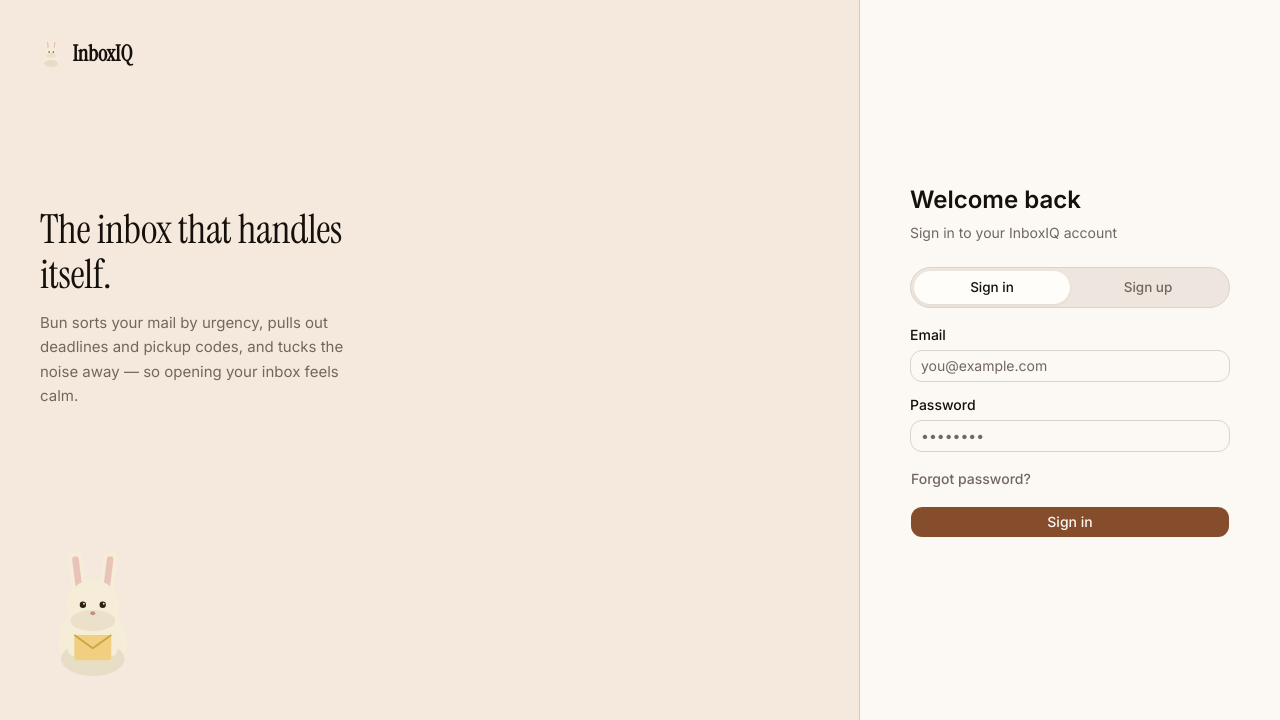
Test: SignInPage › shows confirmation message when signUp returns null session
Step 1. Click the tab "Sign up" → (1148, 288), box [1070, 271, 1226, 304]
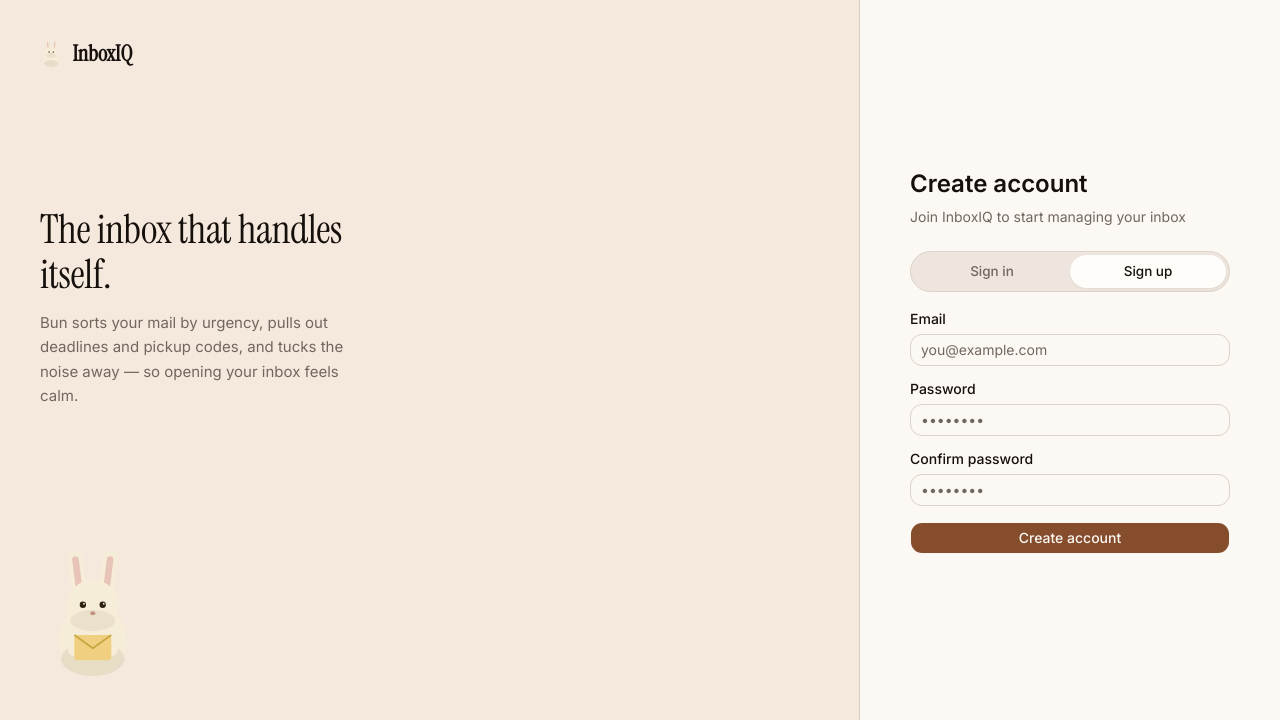
Step 2. Type "new@example.com" into the field labelled "Email" → (1070, 350), box [910, 334, 1230, 366]
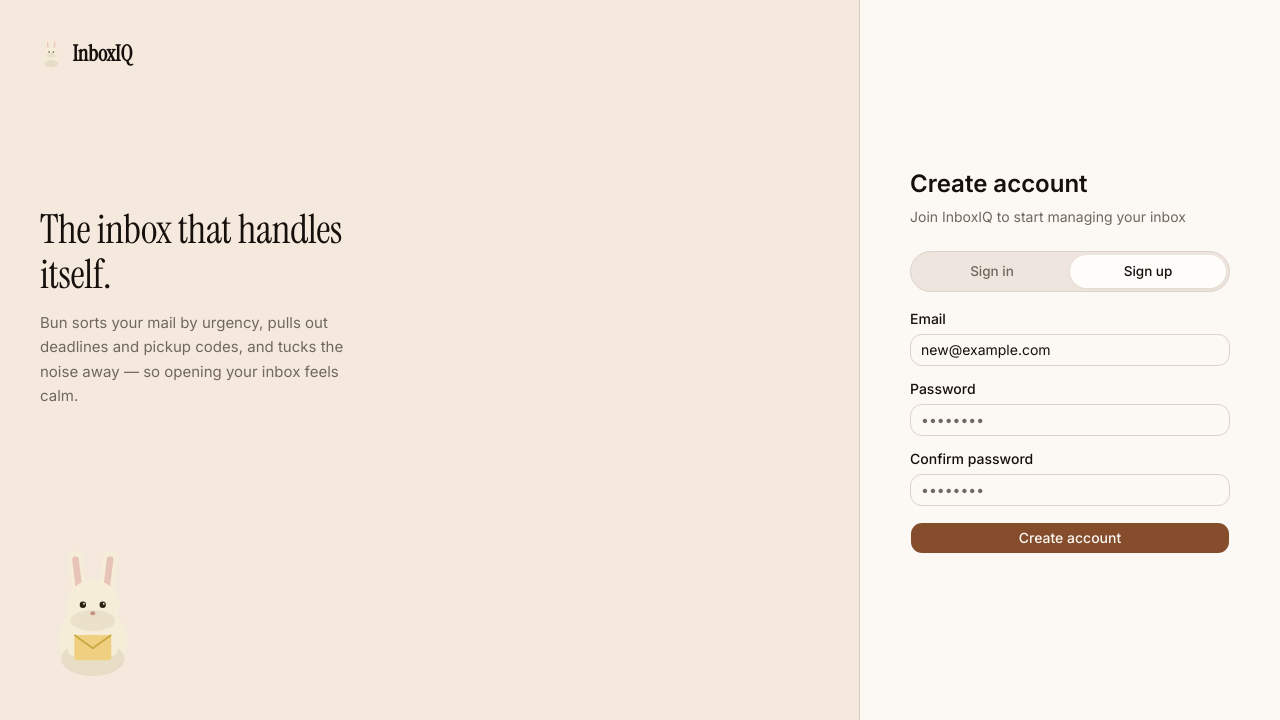
Step 3. Type "password123" into the password field labelled "Password" → (1070, 420), box [910, 404, 1230, 436]
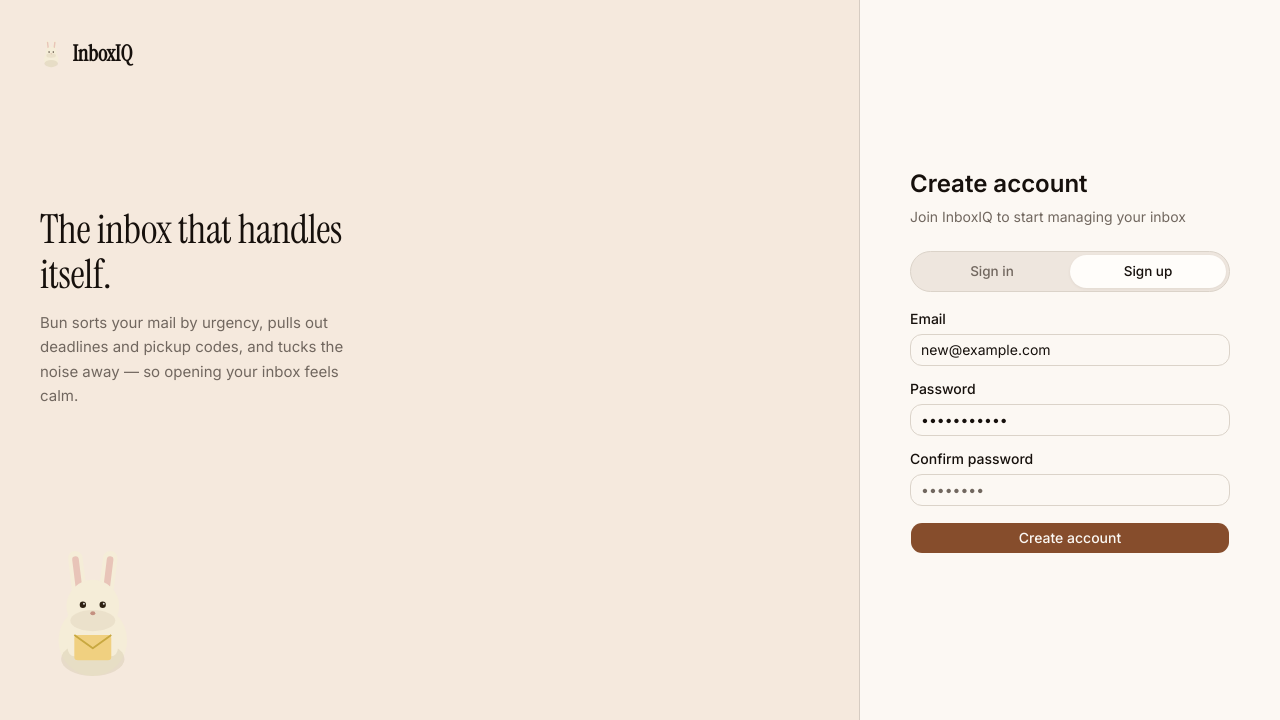
Step 4. Type "password123" into the password field labelled "Confirm password" → (1070, 490), box [910, 474, 1230, 506]
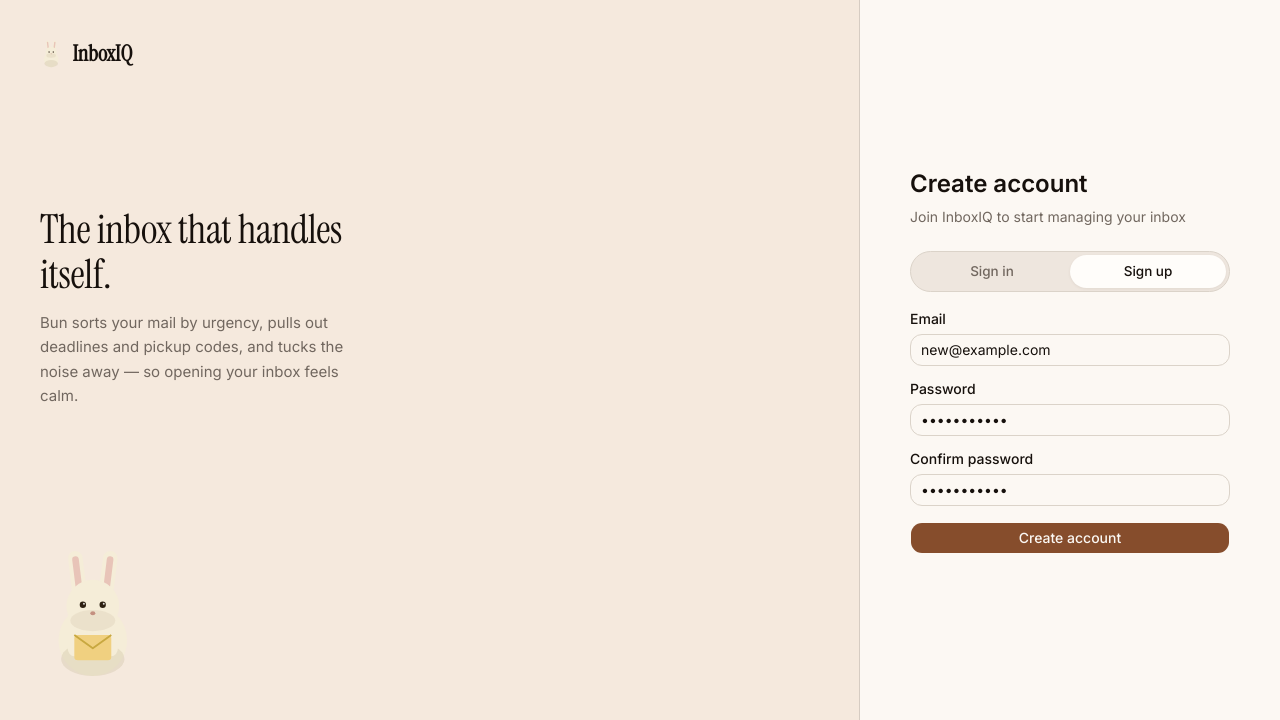
Step 5. Click the button "Create account" → (1070, 538), box [910, 522, 1230, 554]
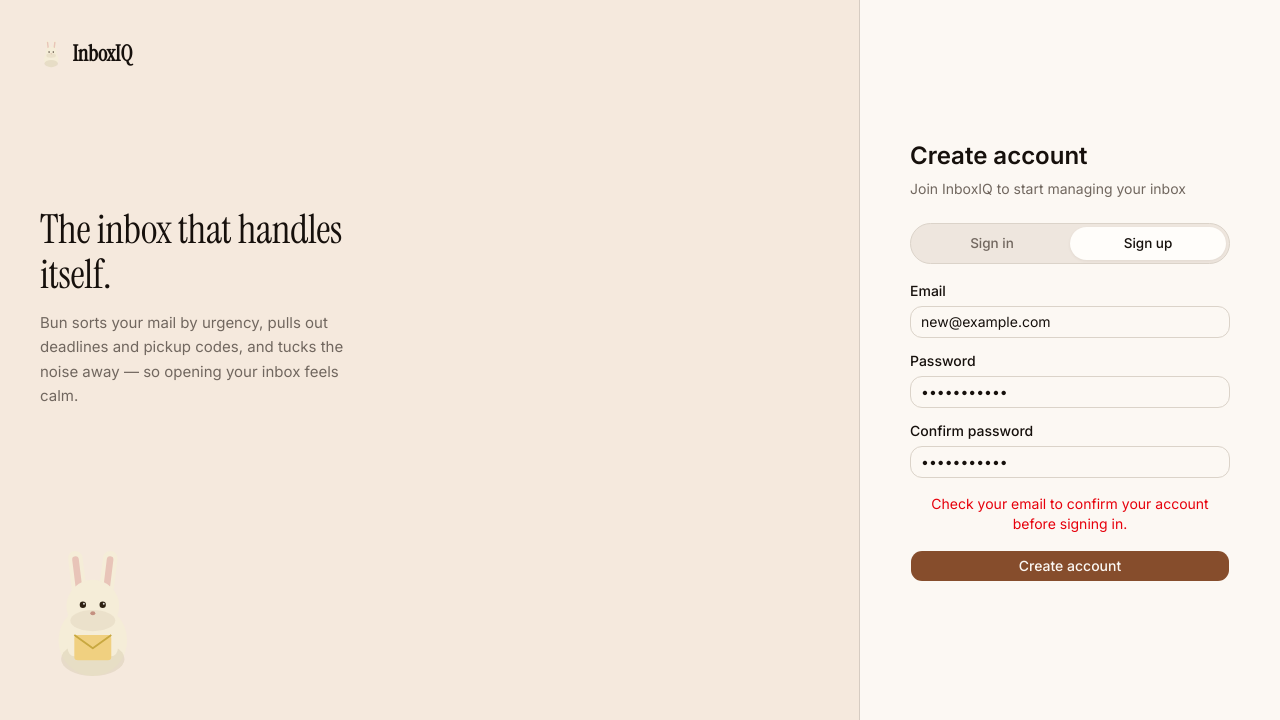
Expected: the text "Check your email to confirm your account before signing in." is shown, [910, 494, 1230, 534]
